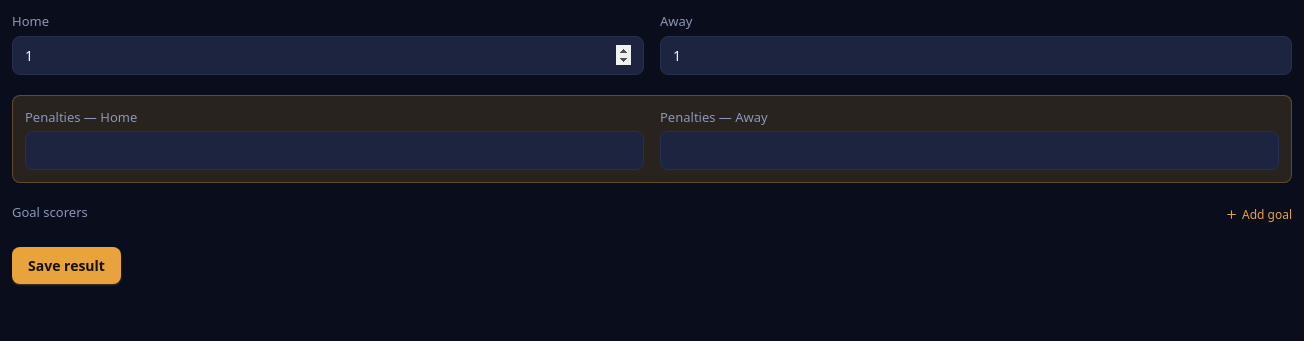
MatchResultForm › requires a decisive penalty score for a knockout draw before submitting
Click the button "Save result" at {"x": 66, "y": 265}, box x1=12 y1=246 x2=121 y2=284
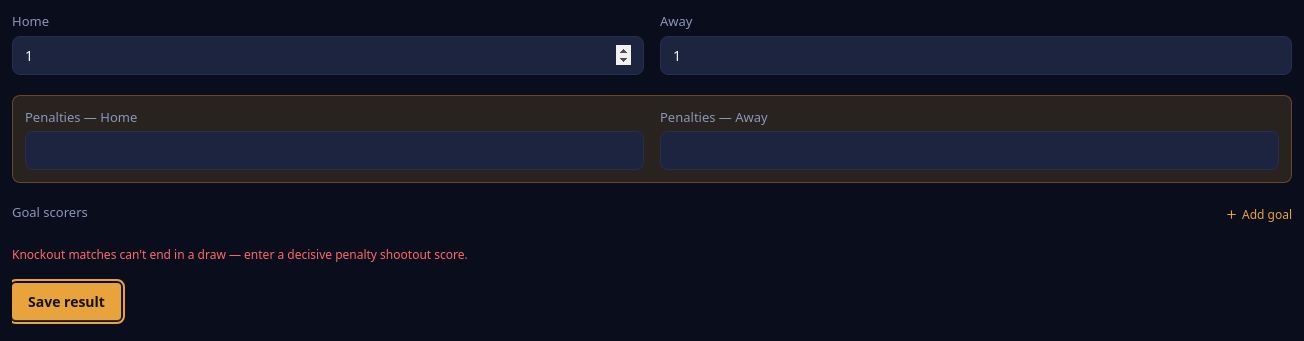
Check: the text "can't end in a draw" is shown, box x1=12 y1=246 x2=468 y2=262
